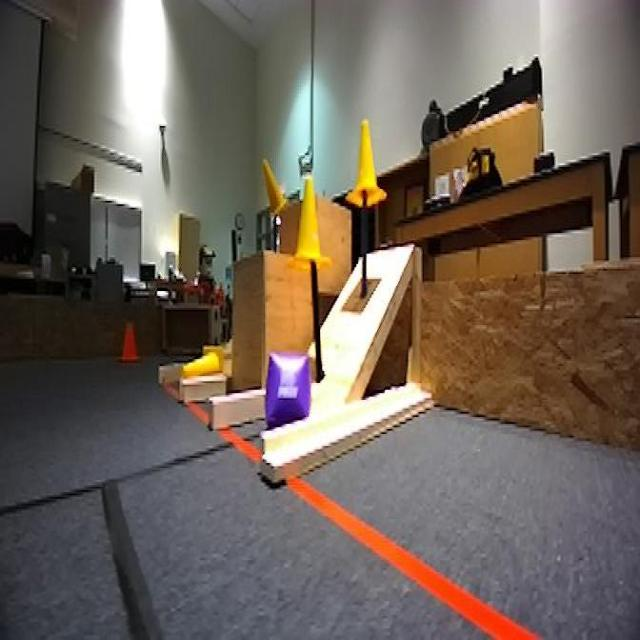frc_cone: (290, 177, 330, 277), (343, 114, 383, 208), (180, 338, 227, 384), (262, 164, 288, 222)
frc_cube: (260, 346, 311, 436)
